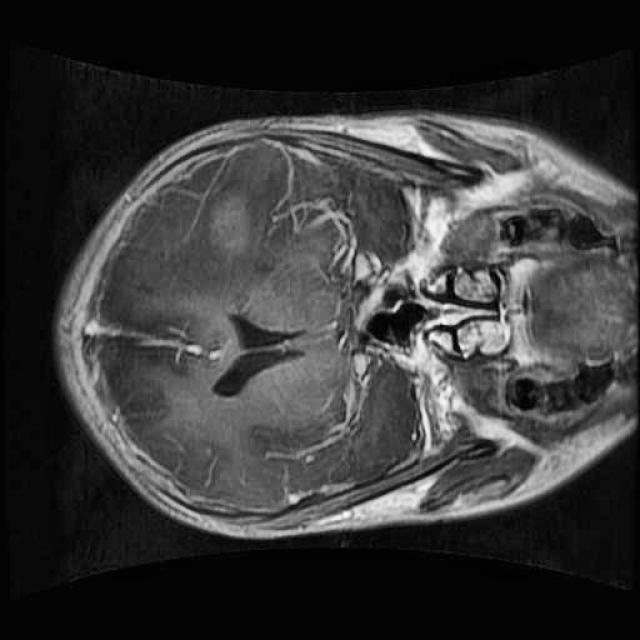Non-Tumor: (189, 171, 278, 274)
